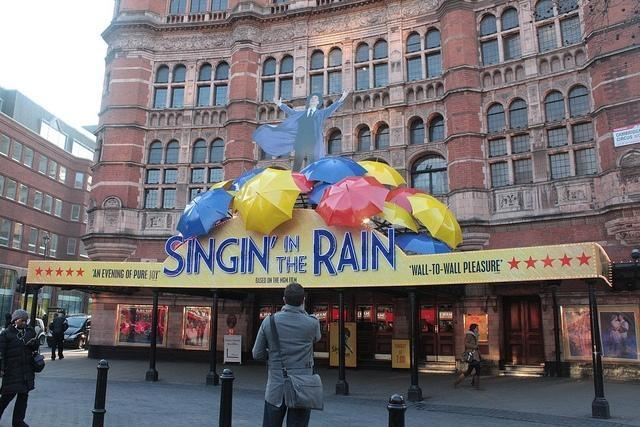car: (46, 314, 92, 350), (27, 318, 47, 346)
